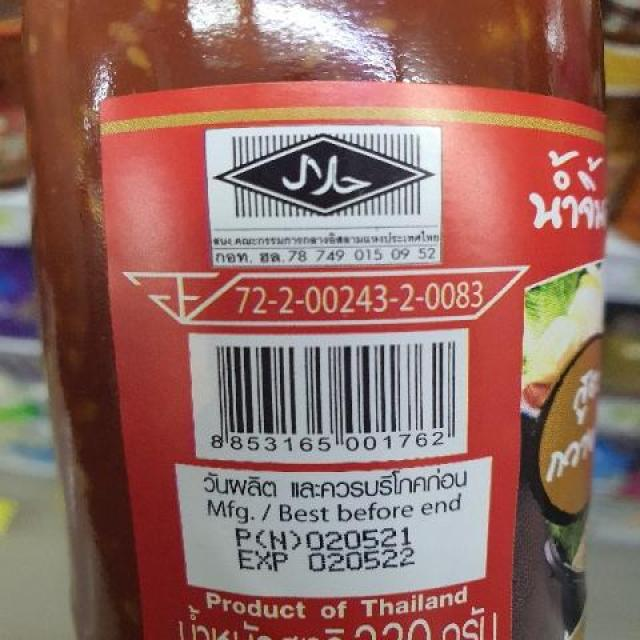Barcode: (195, 333, 472, 459)
